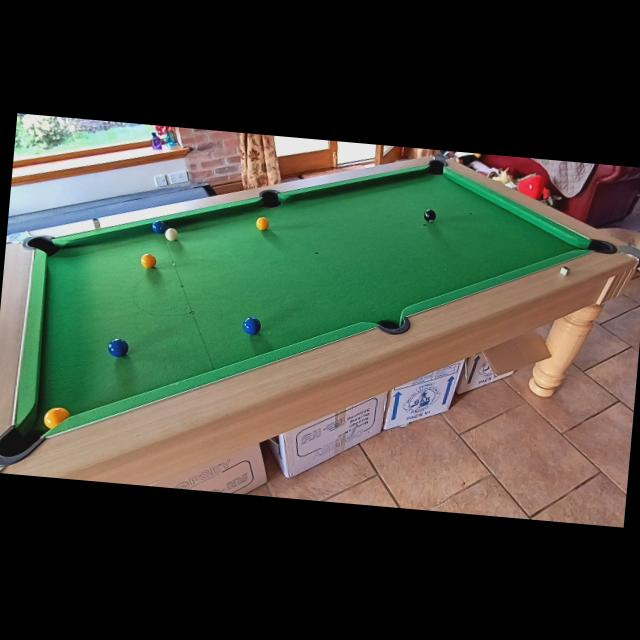Ball: (42, 406, 71, 431), (106, 338, 128, 358), (242, 315, 262, 335), (140, 253, 157, 269), (255, 216, 269, 231), (164, 227, 178, 242), (150, 220, 164, 233), (423, 208, 436, 222)
